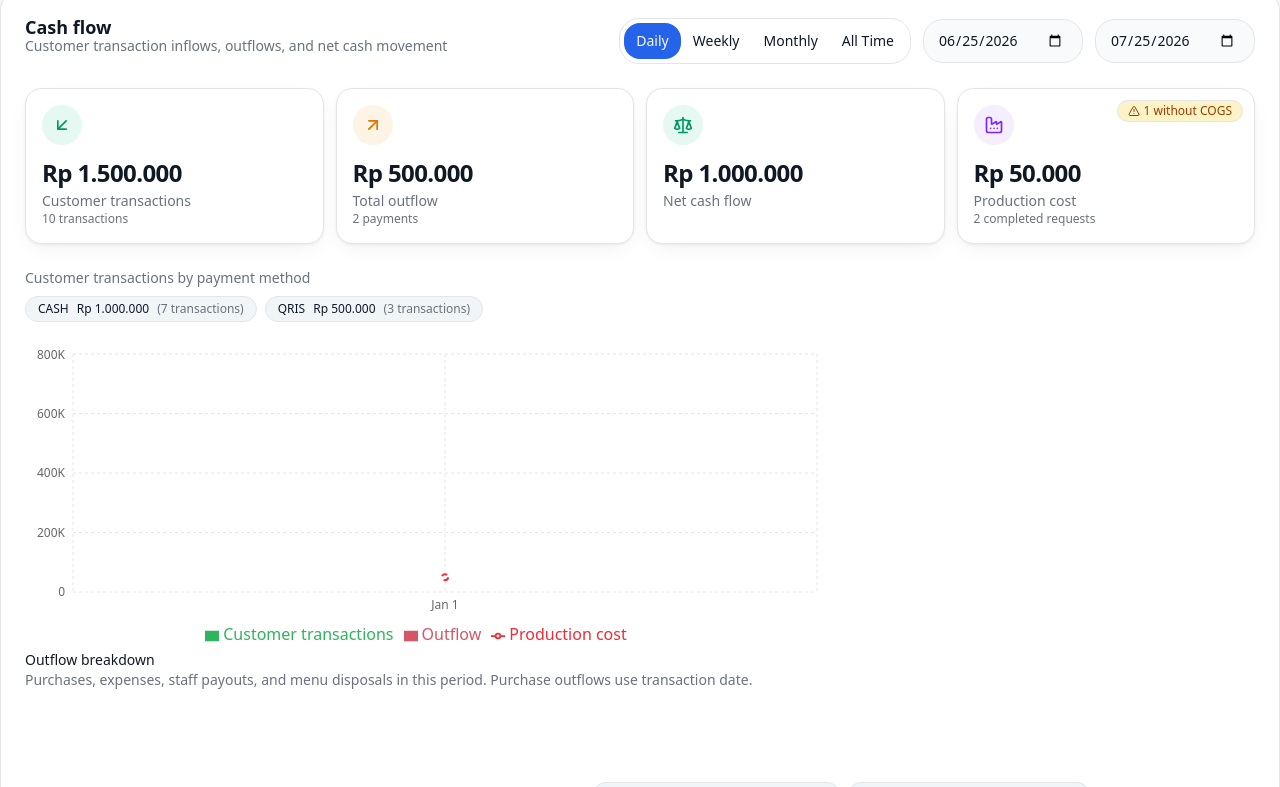
CashFlowSection › POS-190-2 cash-flow filter scope › date range change updates outflow breakdown and production cost
Expected: the element with test id "cash-flow-production-cost-card" is shown, [956,88,1255,244]
Expected: the text "Rp 50.000" is shown, [974,156,1081,189]
In the date field named "Cash flow date from": (1003,41) [923,19,1083,63], type "2026-02-01"
(page scrolled)
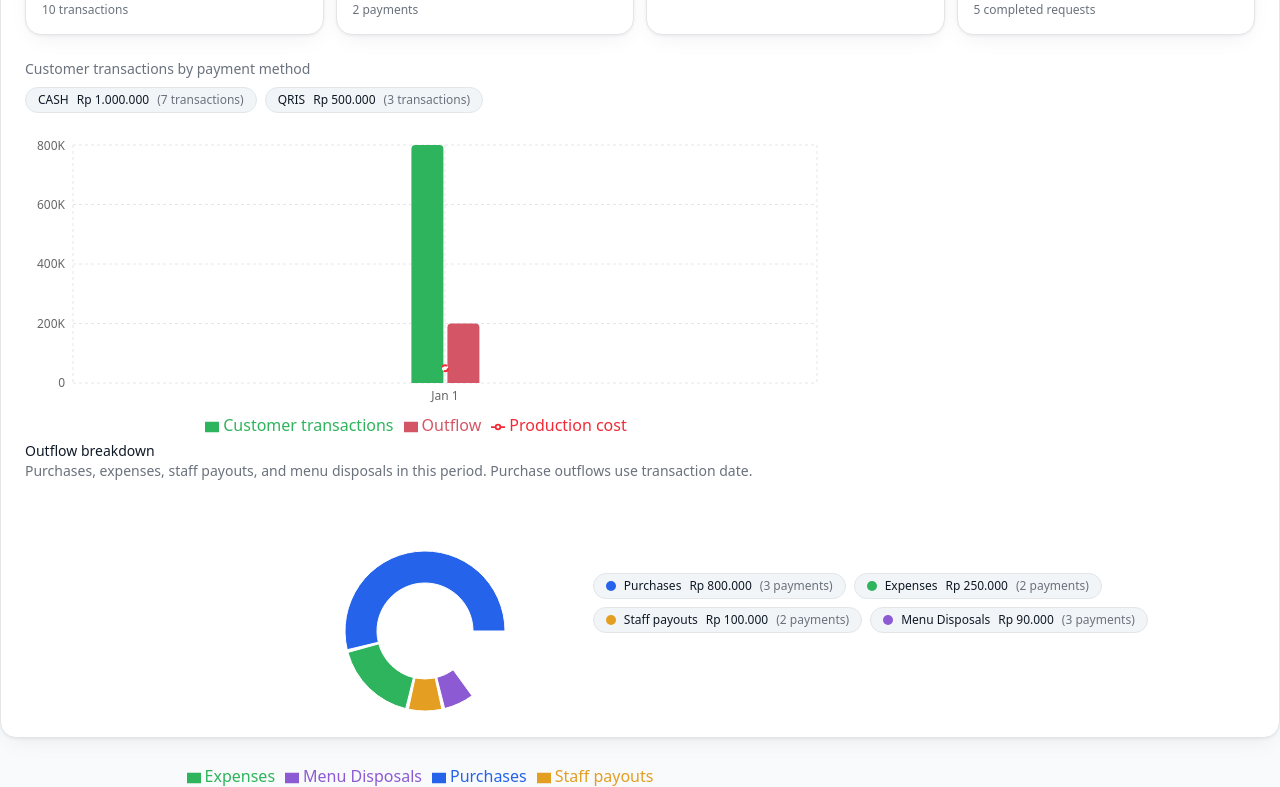
Result: the text "Rp 90.000" is shown at [998,612,1054,628]
Result: the text "Rp 800.000" is shown at [689,578,752,594]
